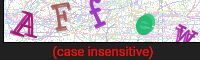A: (9, 7, 39, 42)
F: (45, 1, 78, 33)
W: (166, 21, 199, 43)
e: (128, 9, 158, 38)
f: (85, 1, 114, 34)
